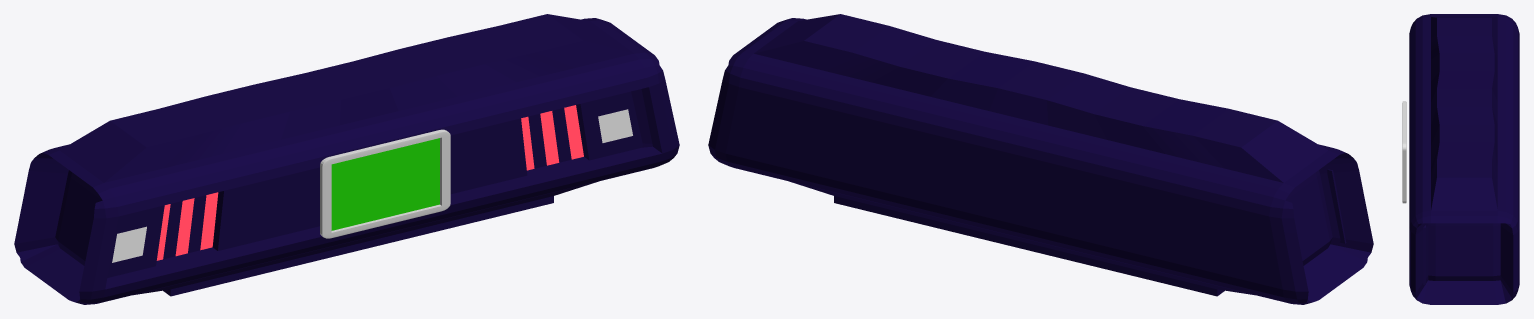
The model's file is paddle.fbx.
3 views of the same model, side by side, from view 1: azimuth 30°, elevation 25°; view 2: azimuth 150°, elevation 25°; view 3: azimuth 270°, elevation 25° (orthographic). The views are drawn at different scales.
Parts seen in each view (by area): view 1: Paddle, License Plate, WLED_L, WLED_R, LED_L2, LED_R3, LED_L1, LED_R2; view 2: Paddle; view 3: Paddle, License Plate.
Part boxes in pixels (x1,y1,x2,y2): Paddle: [14, 14, 679, 304]; License Plate: [320, 129, 450, 238]; WLED_L: [112, 226, 146, 262]; WLED_R: [598, 109, 632, 142]; LED_L2: [175, 198, 194, 256]; LED_R3: [564, 105, 583, 159]; LED_L1: [200, 192, 218, 250]; LED_R2: [540, 111, 559, 165]; Paddle: [708, 14, 1373, 304]; Paddle: [1409, 14, 1519, 304]; License Plate: [1402, 101, 1406, 203].
Size of the model in its own units: 101 by 25.28 by 22.72.
